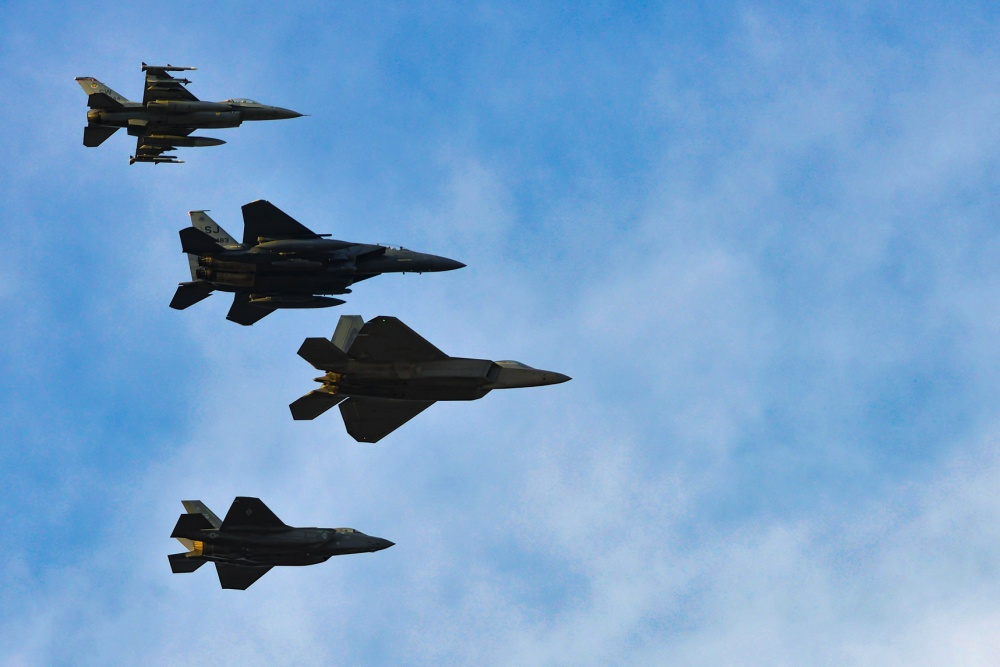plane: (288, 311, 581, 446), (167, 199, 471, 327), (72, 59, 308, 168), (161, 496, 395, 592)
